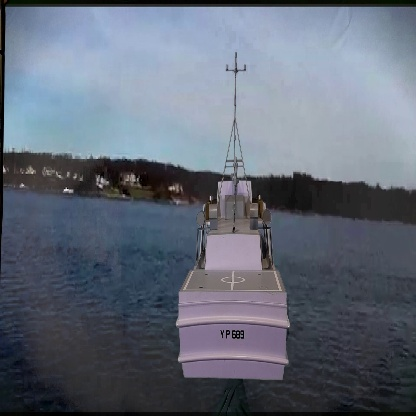YP689: (175, 52, 291, 376)
